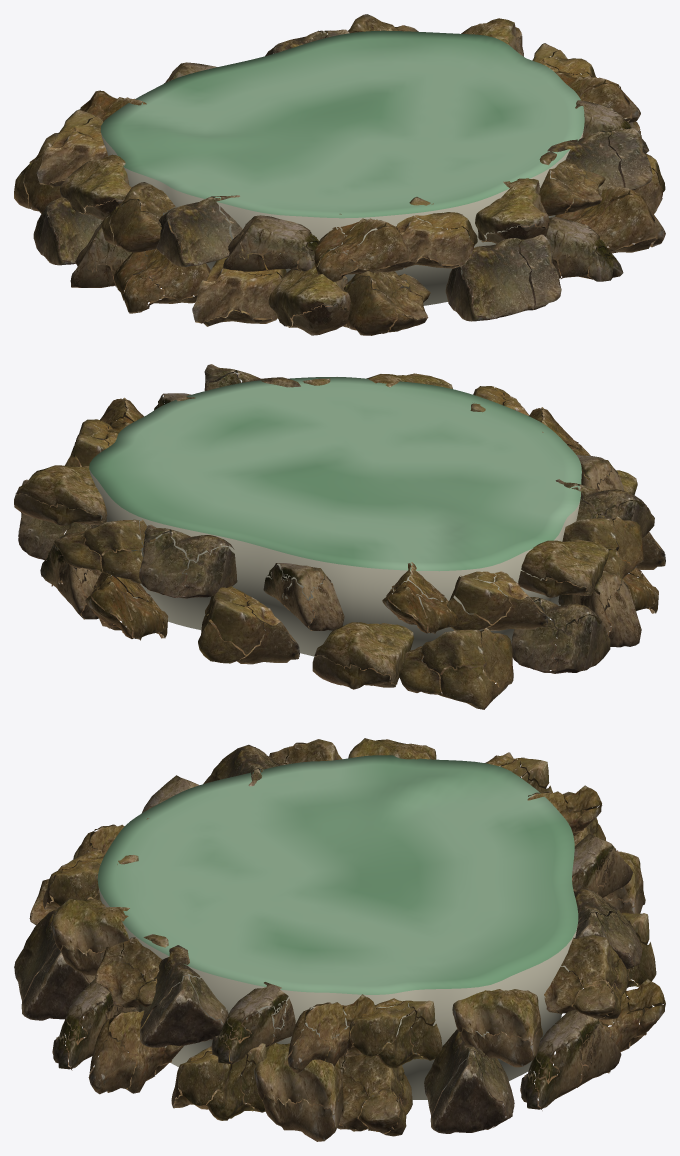
The model's file is terraced_island_v6_2.glb.
3 renders of one model, top to bottom at view 1: azimuth 30°, elevation 25°; view 2: azimuth 150°, elevation 25°; view 3: azimuth 270°, elevation 25°, orthographic. The views are drawn at different scales.
Visible parts, largest first — view 1: Merged_individual_rock_buttresses, Road_Clearance_Turf; view 2: Road_Clearance_Turf, Merged_individual_rock_buttresses; view 3: Road_Clearance_Turf, Merged_individual_rock_buttresses.
Part boxes in pixels (x1=…): Merged_individual_rock_buttresses: x1=14, y1=14, x2=665, y2=335; Road_Clearance_Turf: x1=100, y1=30, x2=584, y2=305; Road_Clearance_Turf: x1=89, y1=377, x2=581, y2=663; Merged_individual_rock_buttresses: x1=14, y1=364, x2=665, y2=709; Road_Clearance_Turf: x1=97, y1=755, x2=578, y2=1102; Merged_individual_rock_buttresses: x1=14, y1=738, x2=665, y2=1141.
Size of the model in its own units: 31.98 by 5.77 by 27.29.
Materials: 2 (1 with a texture image).
